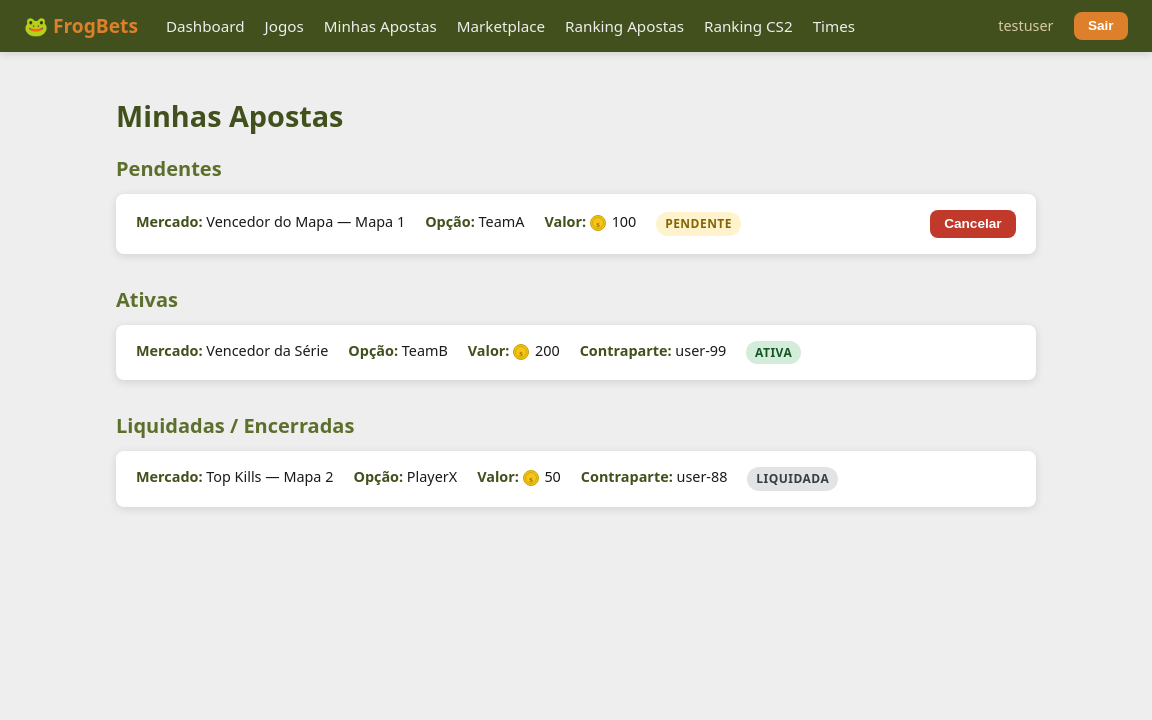
Minhas Apostas › cancela aposta pendente e remove da lista
Click the button "Cancelar" at (973, 224), box [930,210,1016,238]
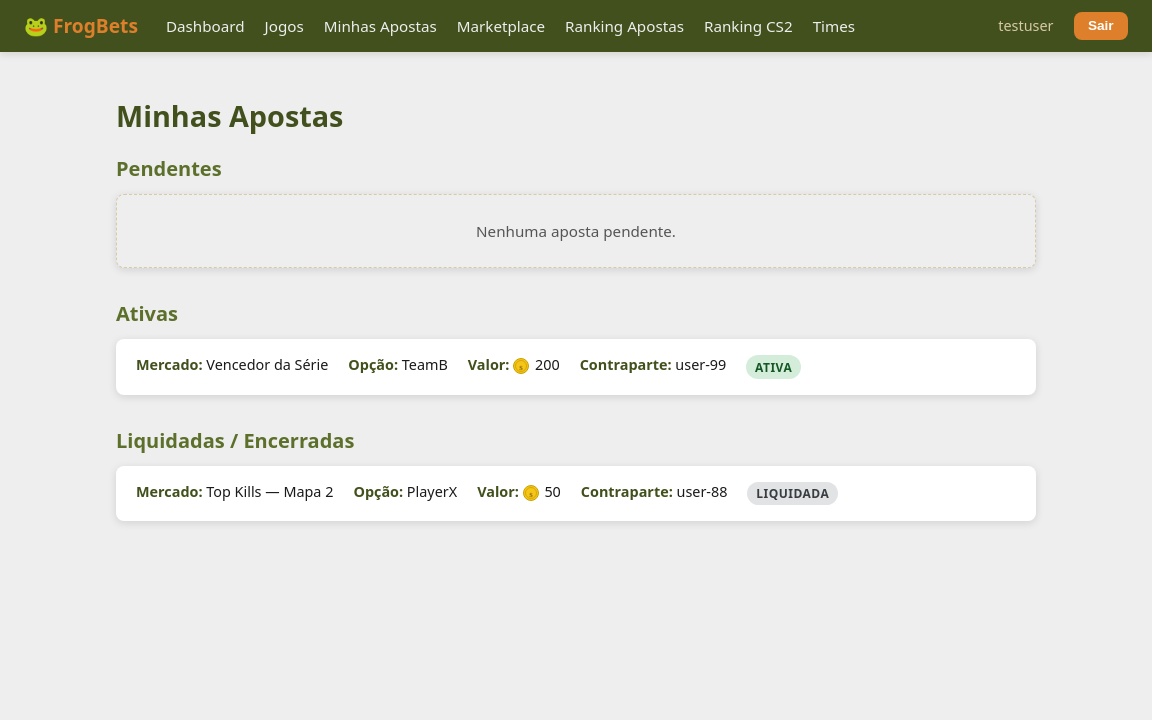
Expected: the text "Nenhuma aposta pendente." is shown, [476,221,676,241]
